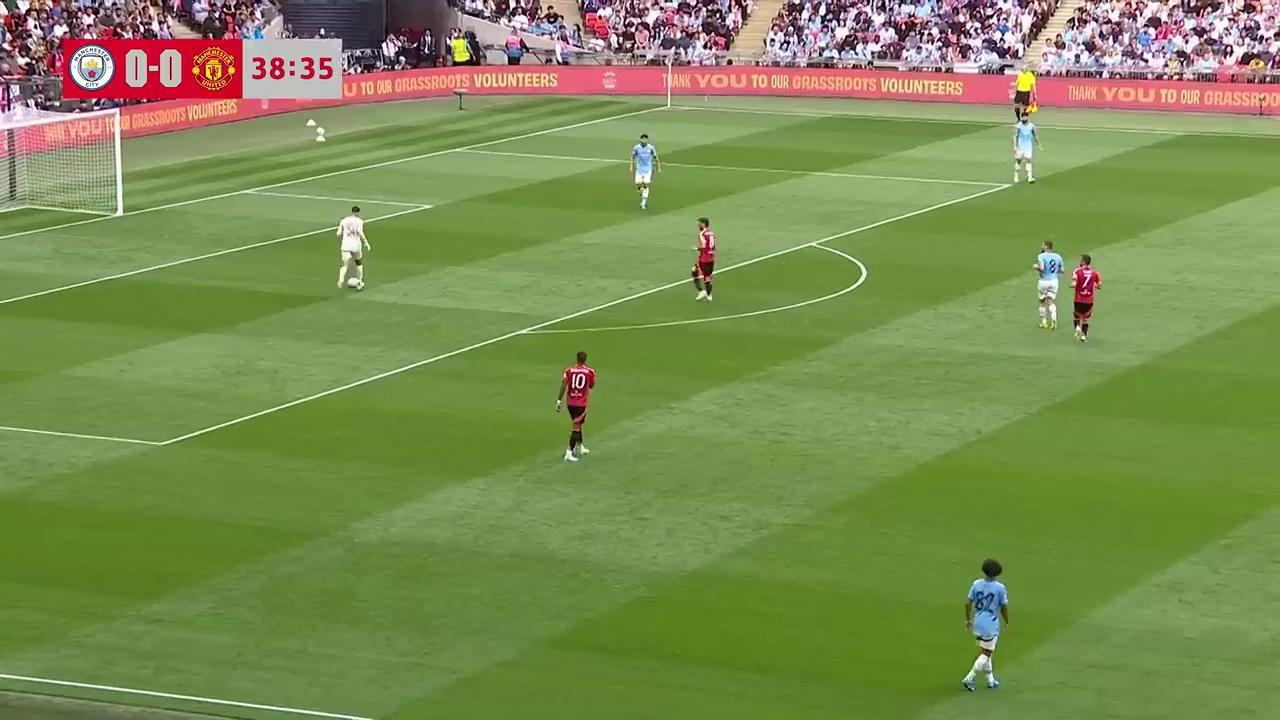ball: (345, 274, 360, 288)
player: (961, 557, 1009, 692), (555, 350, 595, 461), (1069, 253, 1102, 343), (336, 206, 369, 290), (1033, 239, 1063, 329), (690, 217, 716, 302), (630, 133, 659, 206), (1012, 117, 1040, 184)
referee: (1016, 77, 1038, 123)
